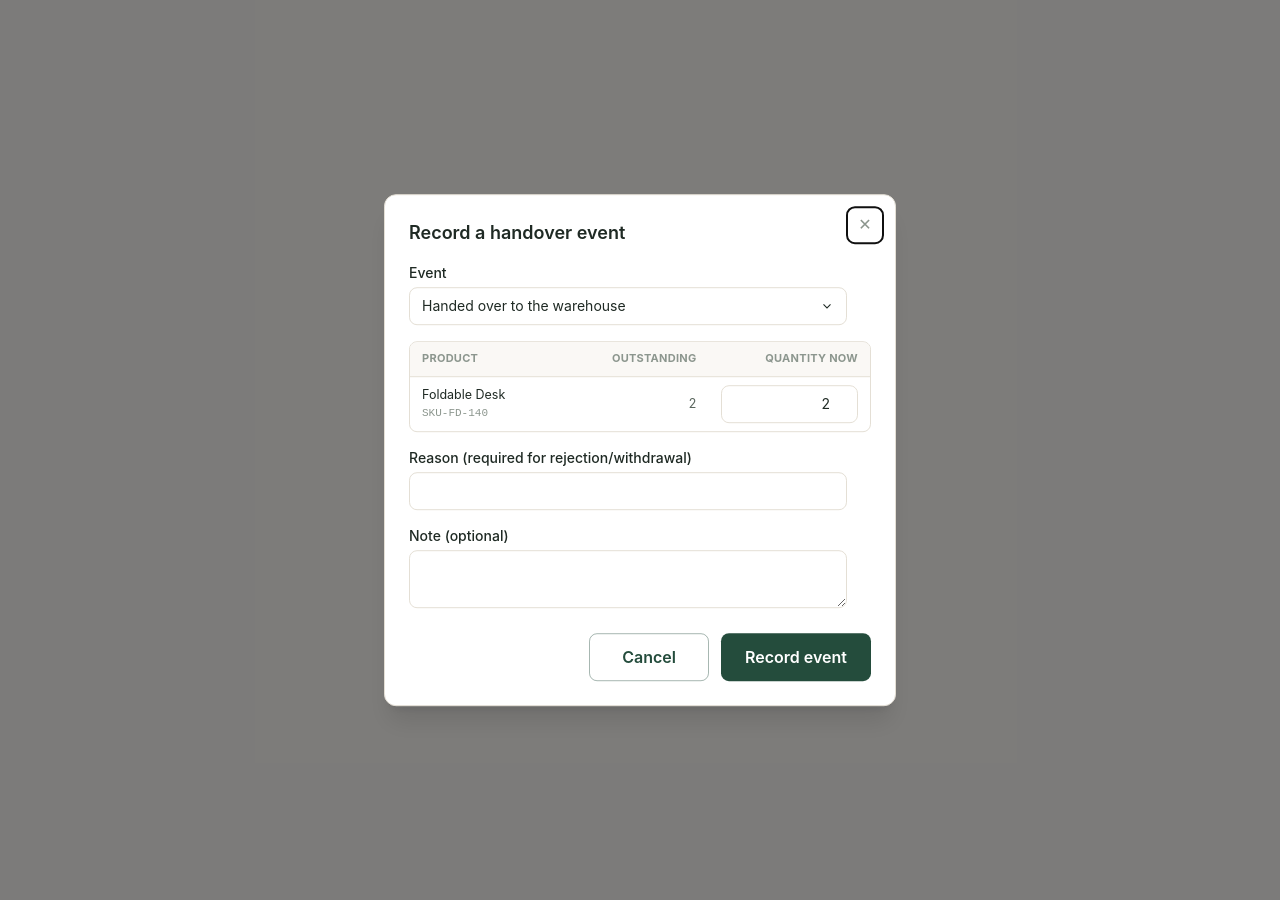
Scenario: FulfillmentDialog › opens event choices inside the dialog and keeps the selected event
Check: the text "SKU-FD-140" is shown, box [422,407,488,419]
Step 1. Click the dropdown named "Event" → (628, 306), box [409,287,847,325]
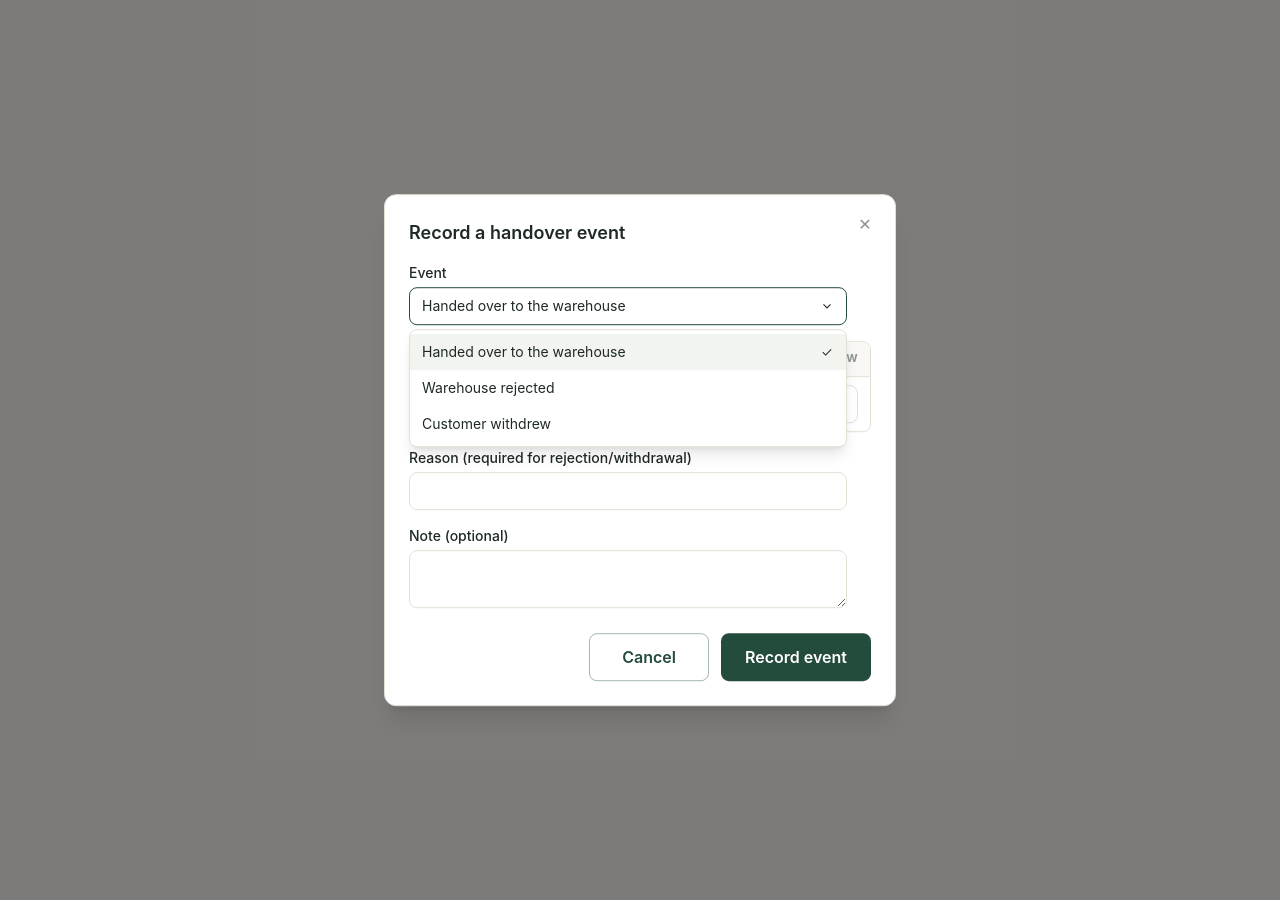
Check: the list named "Event" is shown, box [409,329,847,447]
Step 2. Click the option "Warehouse rejected" → (488, 388), box [422,379,554,396]
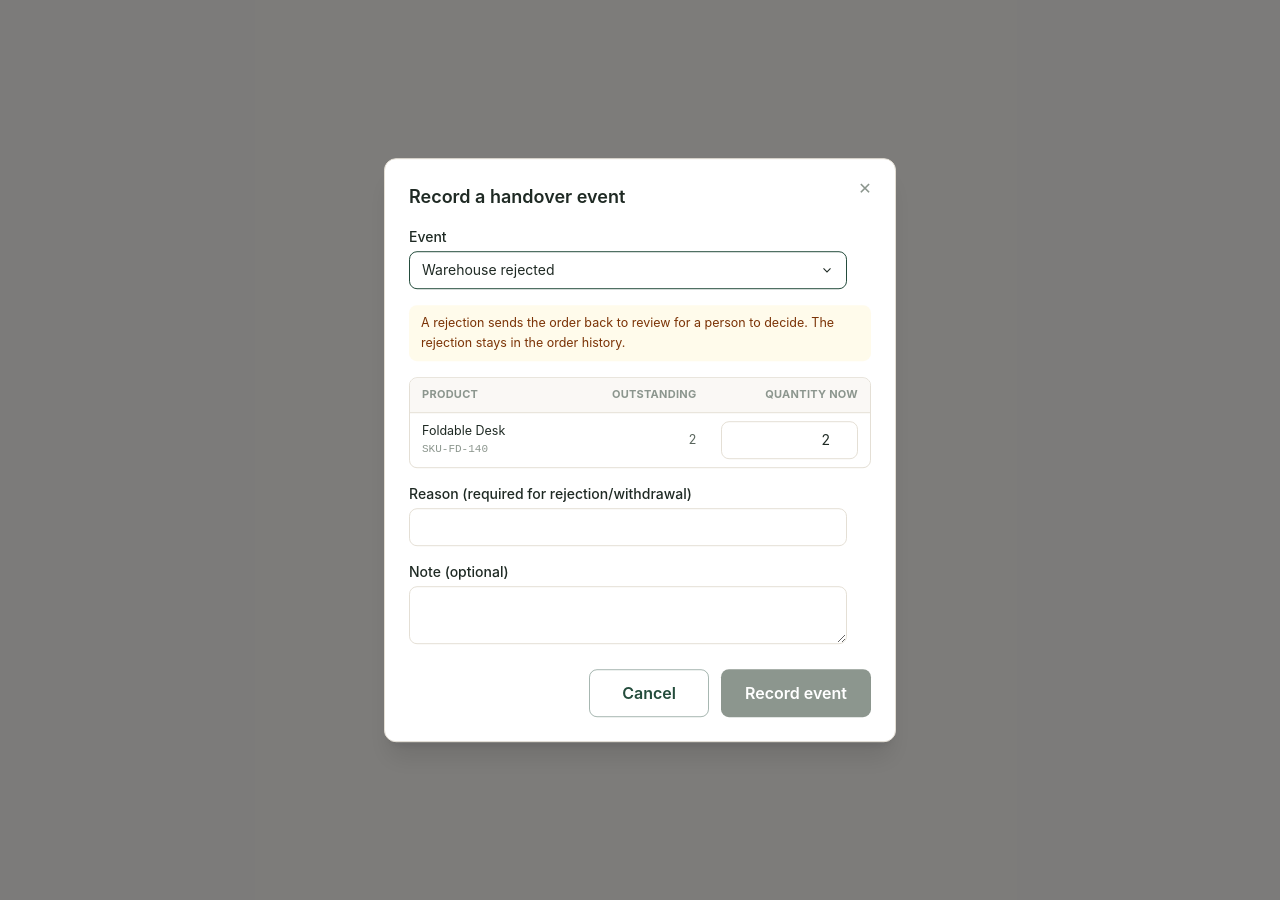
Check: the dropdown named "Event" reads "Warehouse rejected"
Check: the list is gone
Check: the button "Record event" is disabled, box [721,669,871,717]
Step 3. Click the dropdown named "Event" → (488, 270), box [409,251,847,289]
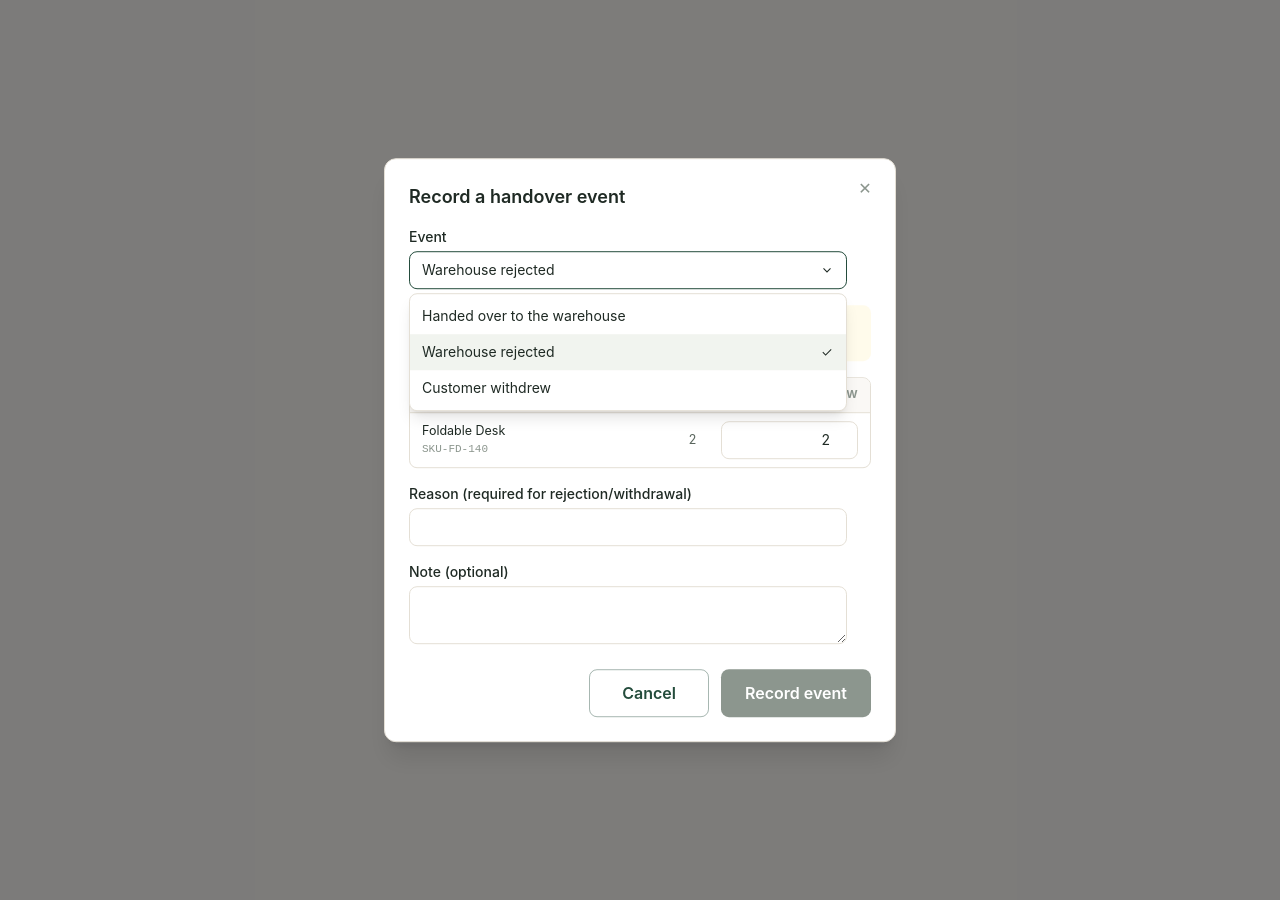
Check: the option "Warehouse rejected" is selected, box [410,334,846,370]
Step 4. Click the field labelled "Reason (required for rejection/withdrawal)" → (628, 527), box [409,508,847,546]
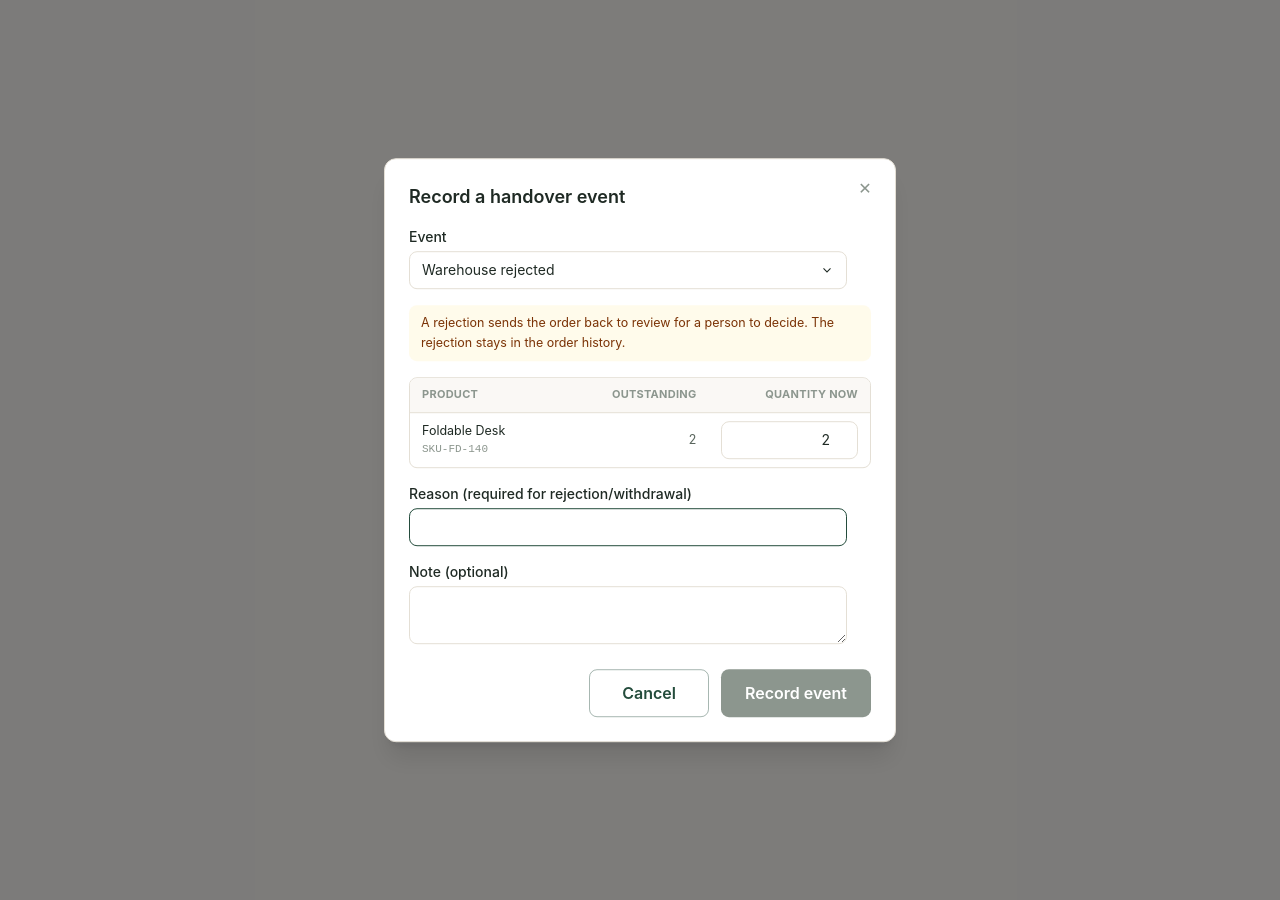
Check: the list is gone
